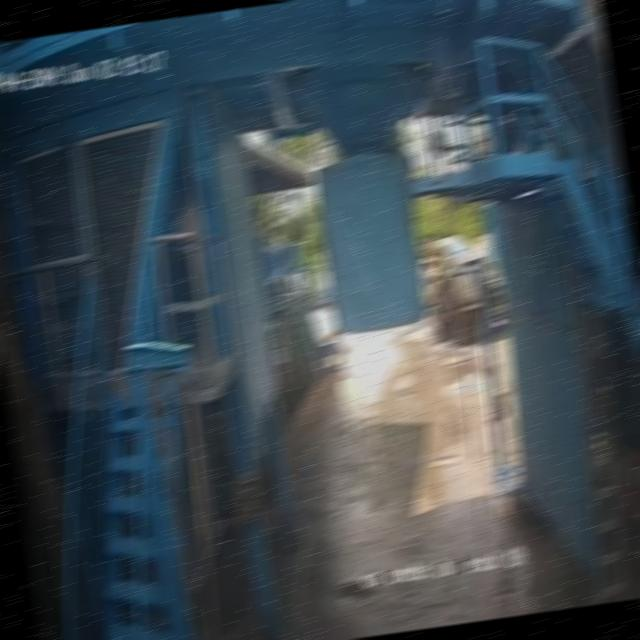cement_mixer_truck: (420, 238, 502, 342)
